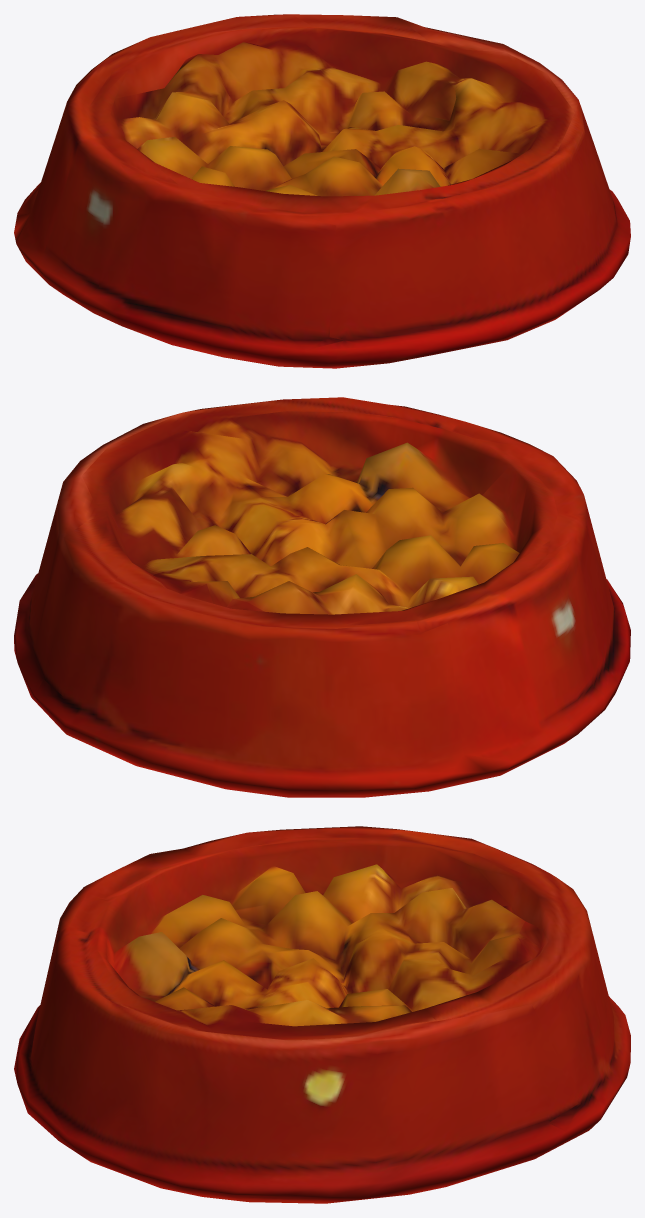
The model's file is FullPlate.fbx.
The picture shows the model from 3 angles, top to bottom: view 1: azimuth 30°, elevation 25°; view 2: azimuth 150°, elevation 25°; view 3: azimuth 270°, elevation 25°; orthographic projection. The views are drawn at different scales.
Parts seen in each view (by area): view 1: tripo_node_cc436b14; view 2: tripo_node_cc436b14; view 3: tripo_node_cc436b14.
Boxes of the visible parts, left/top/right/bottom form: tripo_node_cc436b14: left=14, top=14, right=630, bottom=368; tripo_node_cc436b14: left=14, top=397, right=630, bottom=797; tripo_node_cc436b14: left=14, top=826, right=630, bottom=1203.
Size of the model in its own units: 18.07 by 4.81 by 17.73.
Materials: 1 (1 with a texture image).
